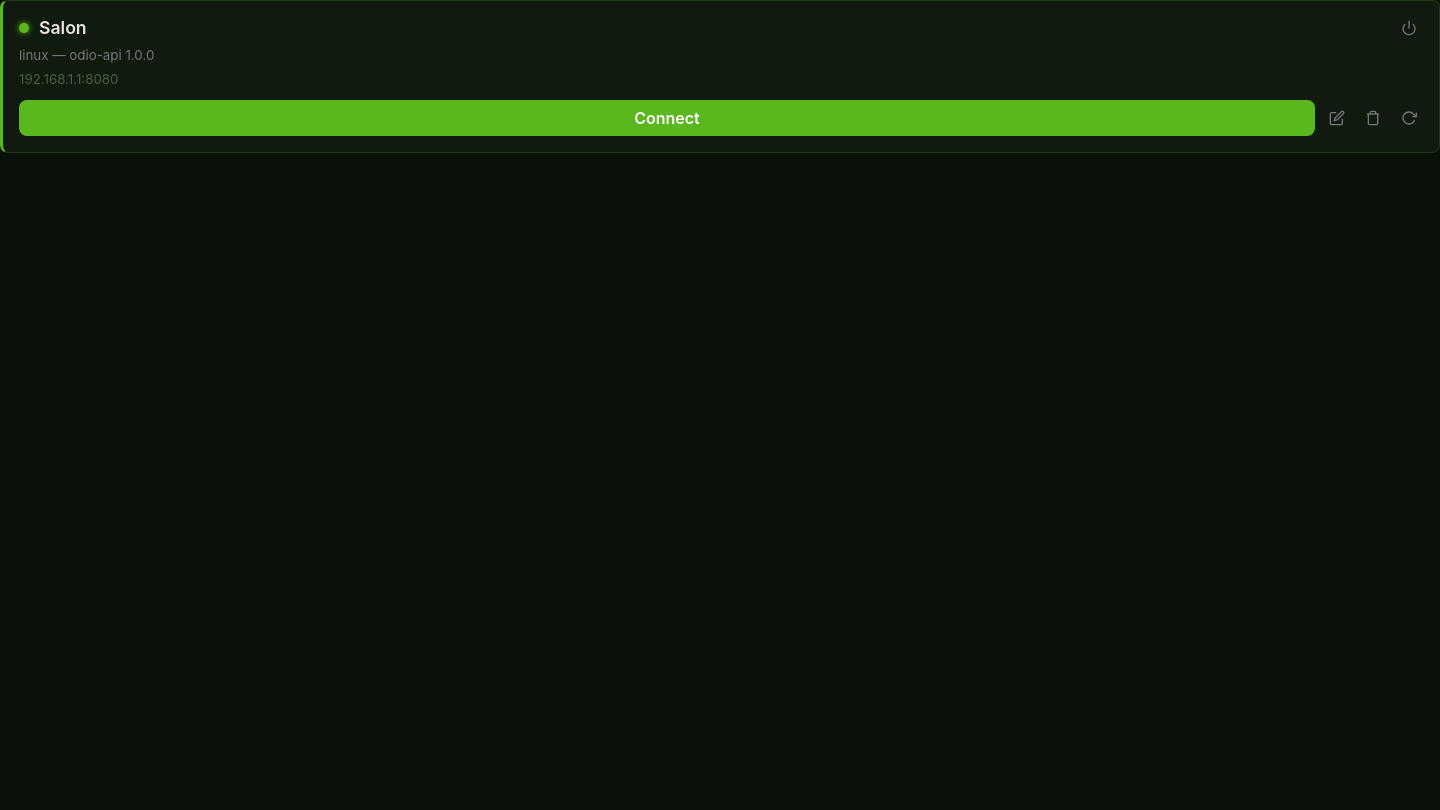
Test: InstanceCard — power off › confirming keeps the name in the header
Click the button titled "Power off": [1409, 28] box [1395, 14, 1423, 42]
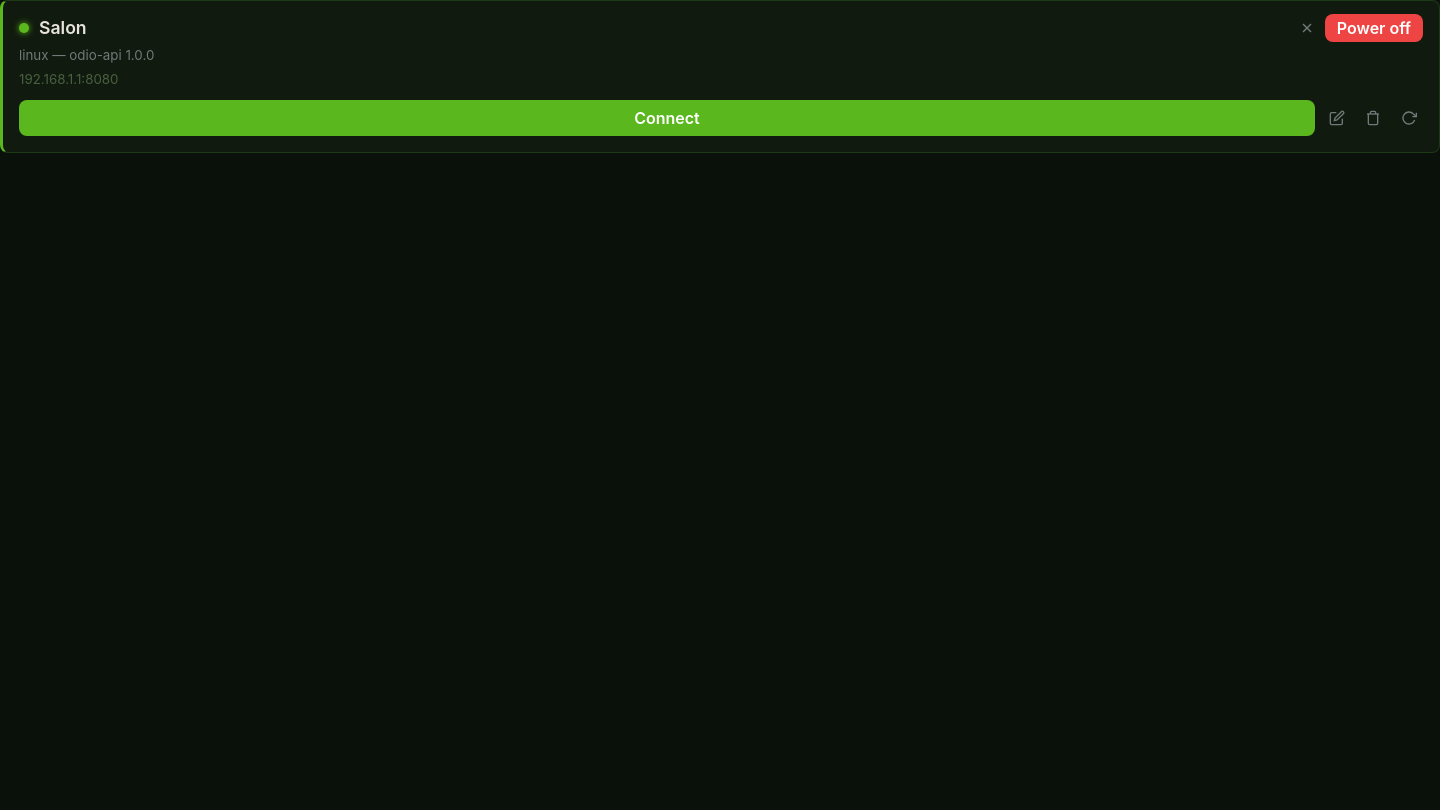
Expected: the heading "Salon" is shown, [39, 17, 87, 38]
Result: the dialog named "Power off Salon?" is shown at [1293, 14, 1423, 42]
